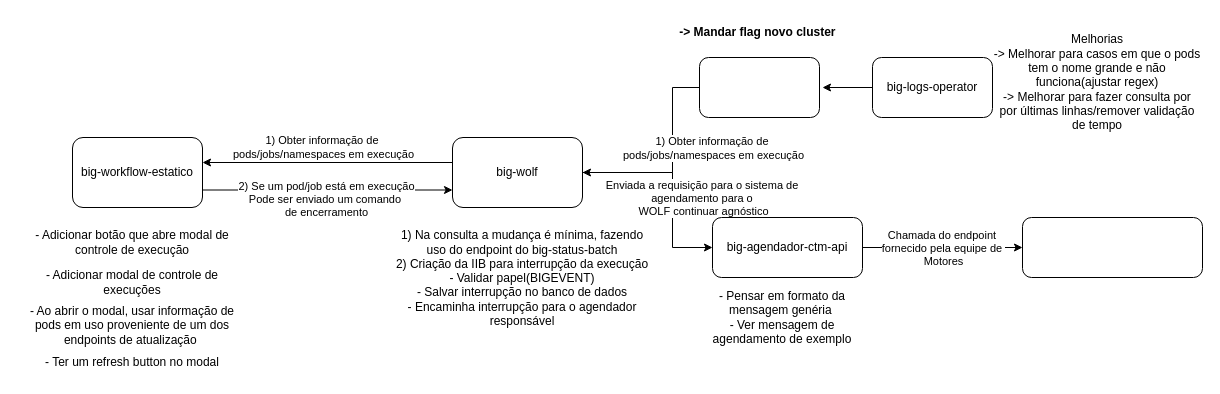
Image size: 1220x394. Some labels were removed from this diagram. Each missing label, with the centre of its shape:
"big-agente-batch-operator" belongs at (x=1112, y=247).
"big-status-batch" belongs at (x=759, y=87).
